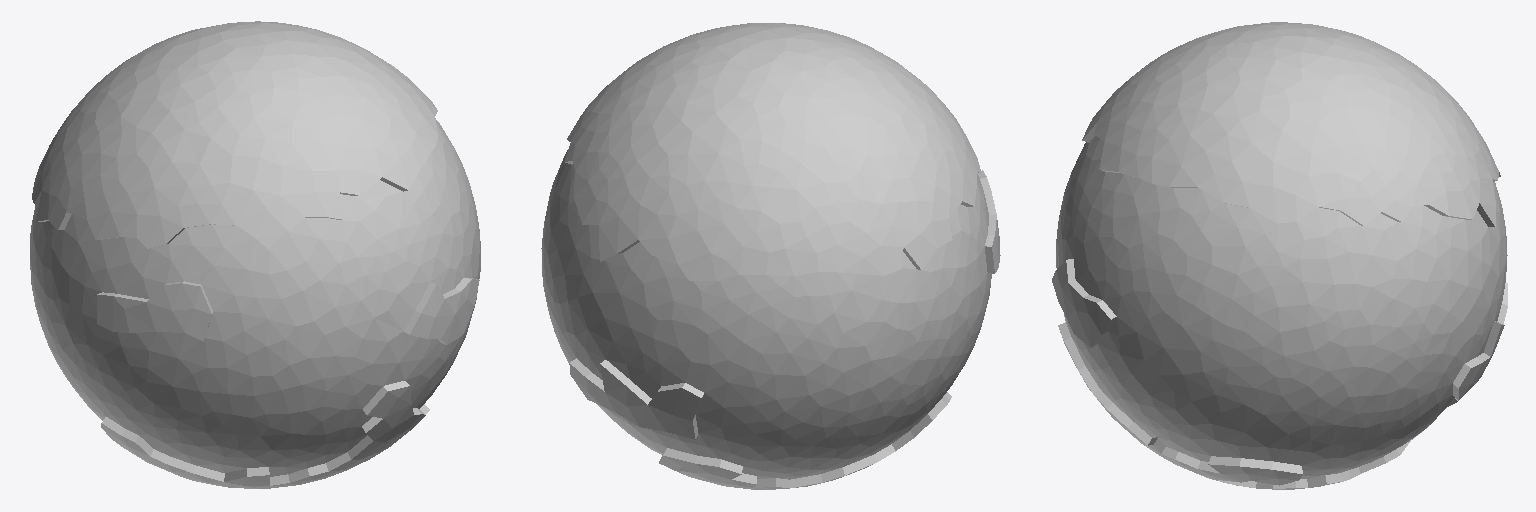
File: planetB.obj
The picture shows the model from 3 angles: view 1: azimuth 30°, elevation 25°; view 2: azimuth 150°, elevation 25°; view 3: azimuth 270°, elevation 25°; orthographic projection.
Parts seen in each view (by area): view 1: Planet_2_Cube.001; view 2: Planet_2_Cube.001; view 3: Planet_2_Cube.001.
Boxes of the visible parts, box(x1,y1,x2,y2) form: Planet_2_Cube.001: box(30, 21, 480, 488); Planet_2_Cube.001: box(541, 23, 1000, 489); Planet_2_Cube.001: box(1052, 22, 1507, 489).
Size of the model in its own units: 2.39 by 2.47 by 2.42.